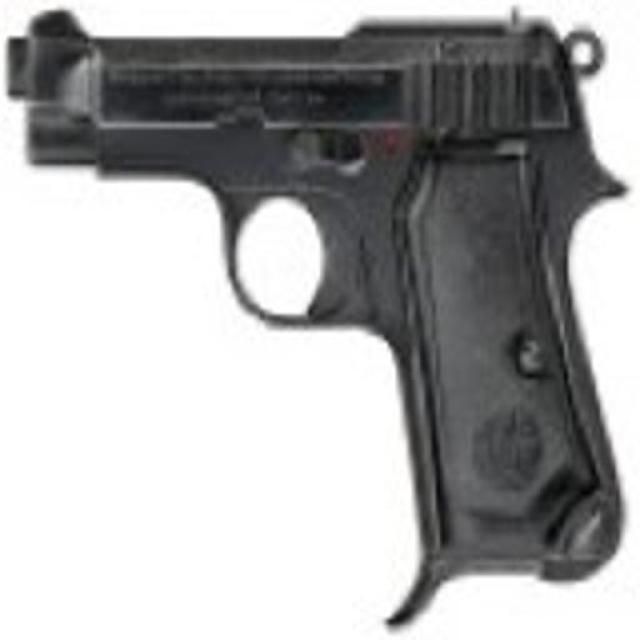pistol: (7, 5, 620, 586)
